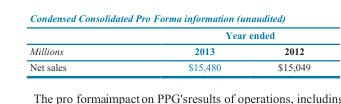table: (28, 29, 309, 72)
table column: (126, 29, 248, 72), (28, 29, 126, 72), (248, 29, 309, 72)
table column header: (28, 29, 309, 58)
table row: (28, 42, 309, 58), (28, 58, 309, 72), (28, 29, 309, 42)
table spanning cell: (28, 29, 126, 58), (126, 29, 309, 42)
